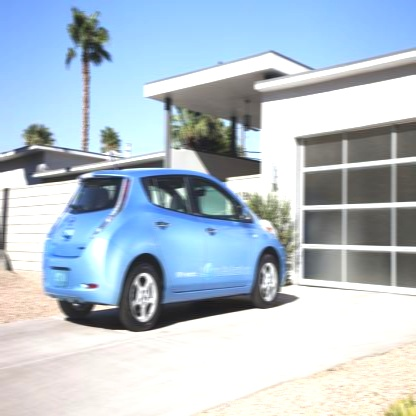Vehicle: (40, 144, 290, 334)
